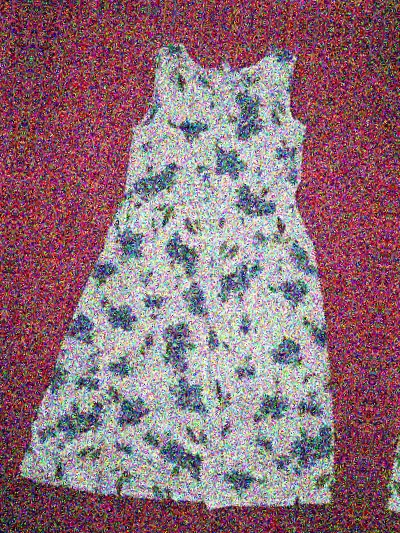Dress: (0, 19, 388, 529), (0, 0, 27, 491), (376, 60, 400, 533), (48, 0, 400, 15)
